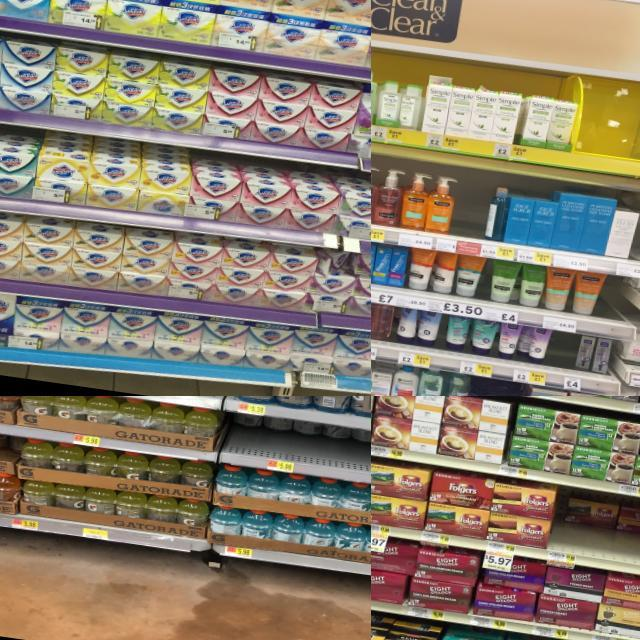void: (453, 177, 492, 257), (546, 331, 582, 392)
